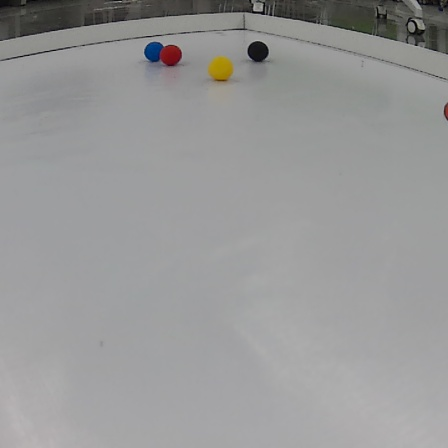black: (245, 40, 274, 63)
blue: (135, 37, 164, 62)
red: (157, 44, 184, 67)
yellow: (209, 55, 235, 83)
